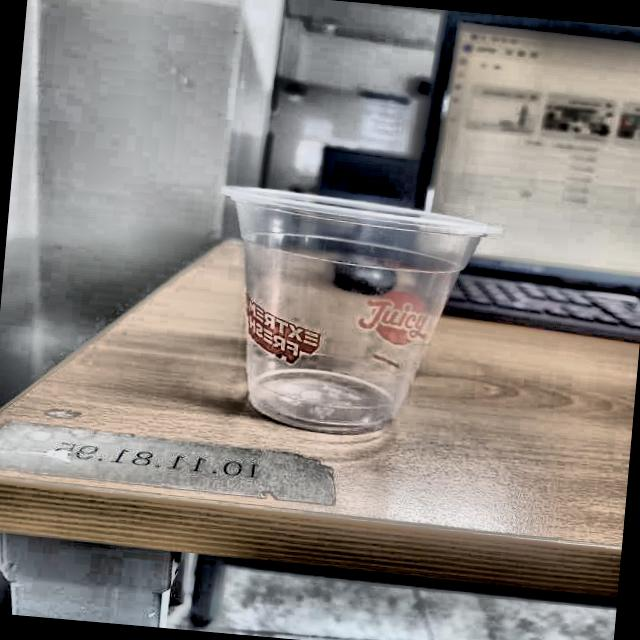plastic cup: (202, 182, 502, 445)
